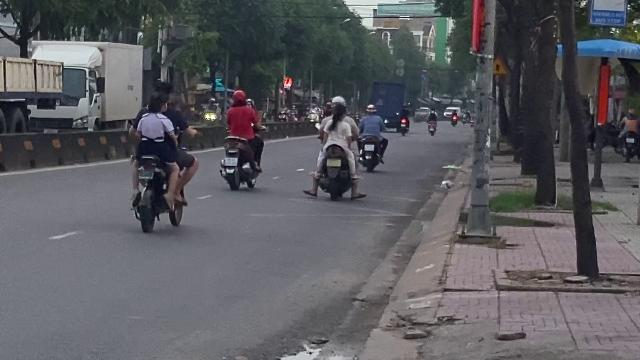motorcyclist: (125, 78, 197, 234)
nohelmet: (148, 93, 170, 114), (153, 82, 171, 99)
